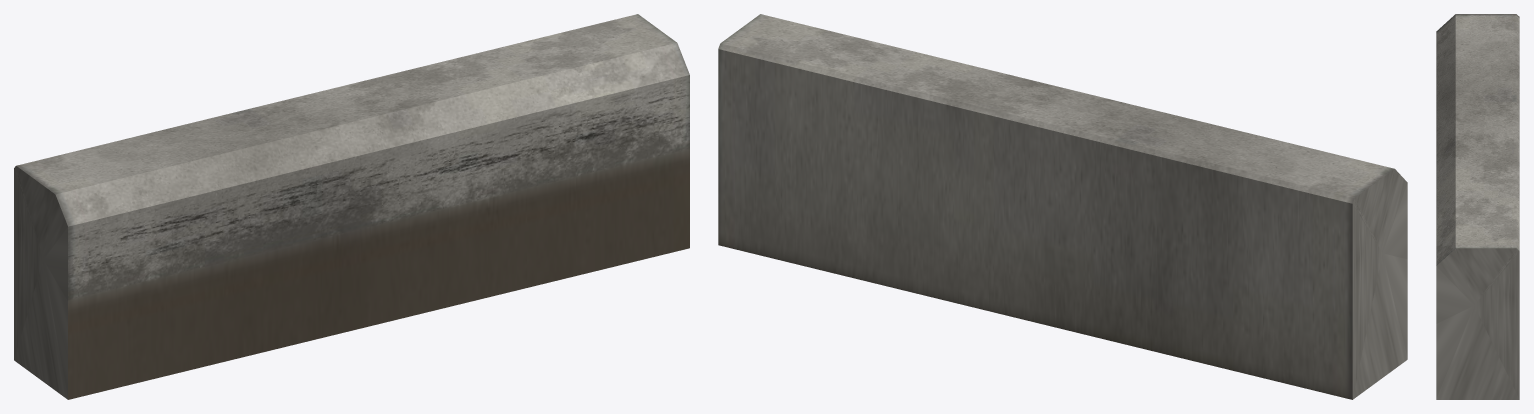
The model's file is curb_straight_lod1_web.glb.
3 views of the same model, side by side, from view 1: azimuth 30°, elevation 25°; view 2: azimuth 150°, elevation 25°; view 3: azimuth 270°, elevation 25° (orthographic). The views are drawn at different scales.
Visible parts, largest first — view 1: curb_straight_Mesh; view 2: curb_straight_Mesh; view 3: curb_straight_Mesh.
Part boxes in pixels (x1,y1,x2,y2): curb_straight_Mesh: (14, 14, 689, 399); curb_straight_Mesh: (718, 14, 1407, 399); curb_straight_Mesh: (1436, 14, 1519, 399).
Bounding box in the file's own units: 0.995 × 0.3 × 0.15.
Materials: 1 (1 with a texture image).
